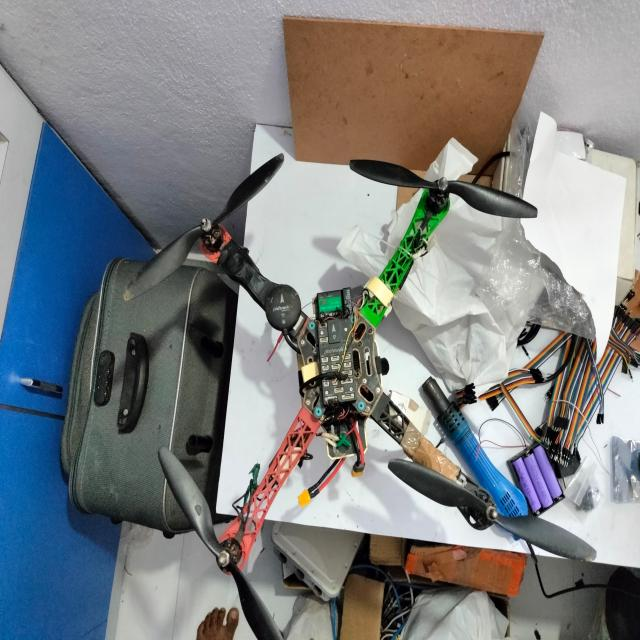drone: (151, 135, 597, 590)
